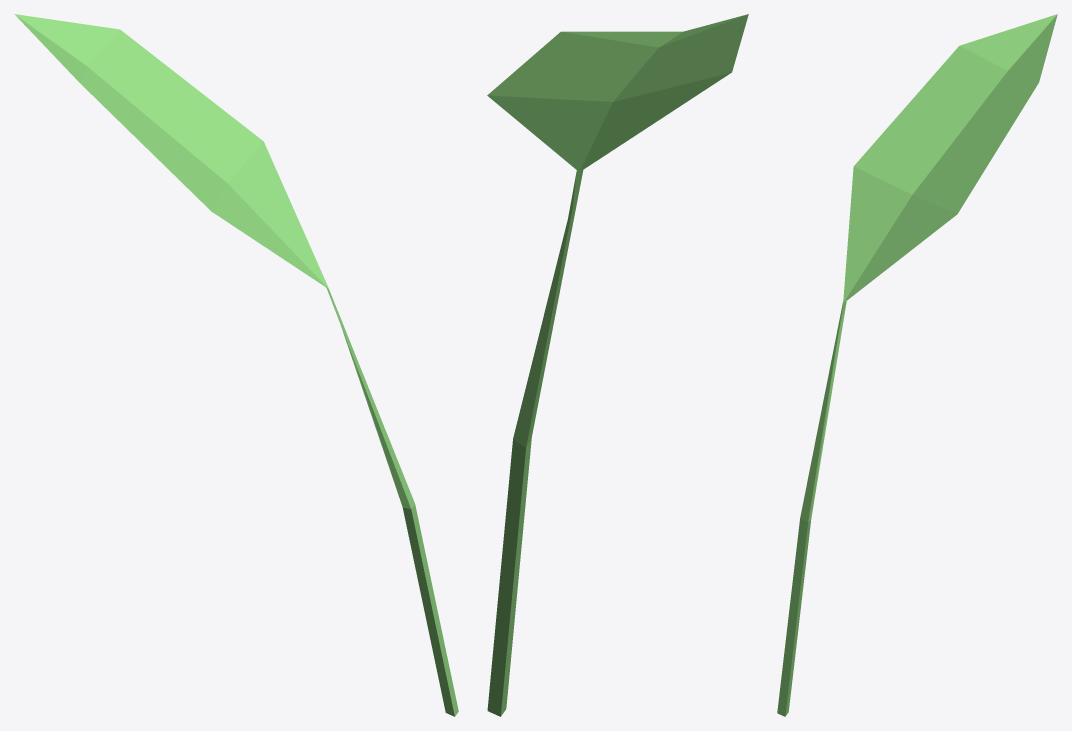
The model's file is Plant_j_OneS_01.fbx.
3 renders of one model, left to right at view 1: azimuth 30°, elevation 25°; view 2: azimuth 150°, elevation 25°; view 3: azimuth 270°, elevation 25°, orthographic. The views are drawn at different scales.
Parts seen in each view (by area): view 1: Plant_j_OneS_01; view 2: Plant_j_OneS_01; view 3: Plant_j_OneS_01.
Boxes of the visible parts, x1,y1,x2,y2 form: Plant_j_OneS_01: (14, 14, 458, 716); Plant_j_OneS_01: (487, 14, 748, 716); Plant_j_OneS_01: (777, 14, 1057, 716).
Bounding box in the file's own units: 23.33 × 50.34 × 22.15.
